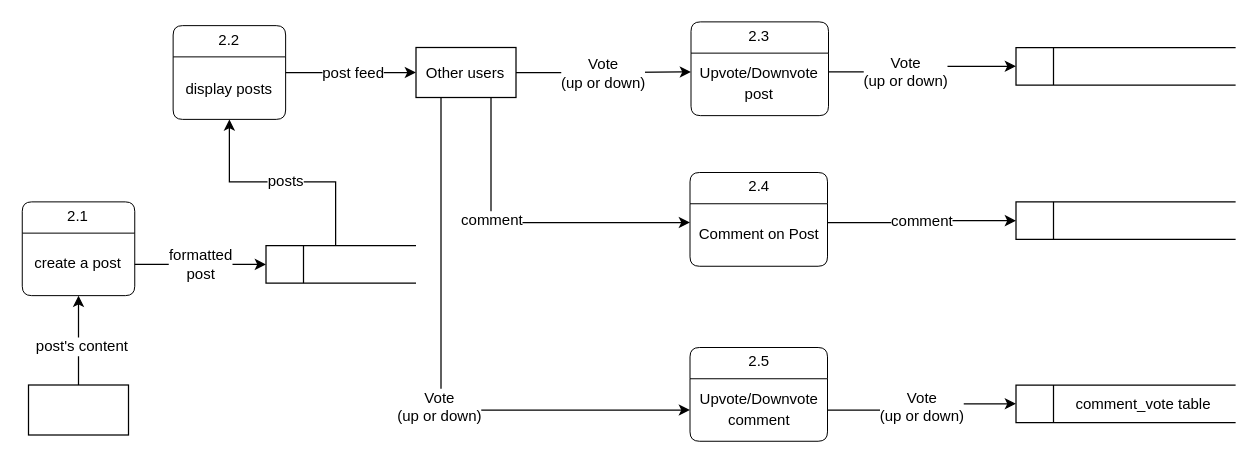
Image size: 1258x464. Some labels were removed from this diagram. The box of each missing label's shape, as (x1, y1, x2, y2) in pixels:
comment table: (1015, 201, 1236, 239)
post table: (265, 244, 416, 283)
User/Page: (27, 384, 128, 435)
vote table: (1015, 46, 1236, 85)
